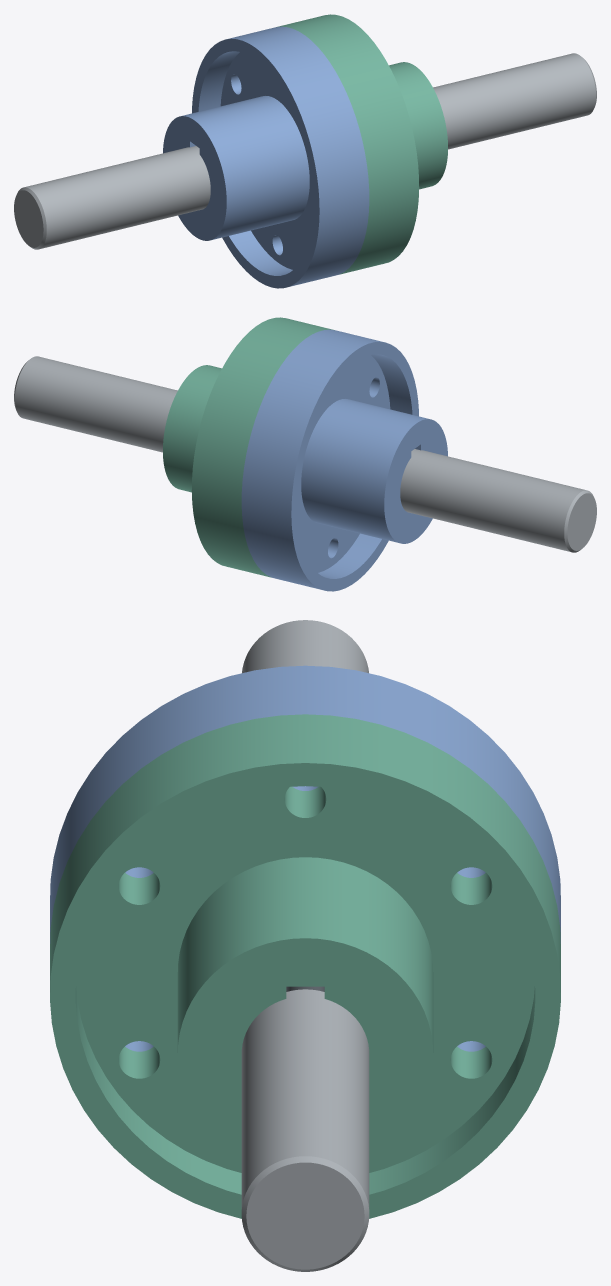
File: step_16.glb
The picture shows the model from 3 angles, top to bottom: view 1: azimuth 30°, elevation 25°; view 2: azimuth 150°, elevation 25°; view 3: azimuth 270°, elevation 25°; orthographic projection. The views are drawn at different scales.
Visible parts, largest first — view 1: part__flange A (spigot), part__flange B (recess), part__shaft A, part__shaft B; view 2: part__flange A (spigot), part__flange B (recess), part__shaft A, part__shaft B; view 3: part__flange B (recess), part__shaft B, part__flange A (spigot), part__shaft A.
Part boxes in pixels (box(x1,y1,x2,y2)): part__flange A (spigot): box(163, 26, 369, 288); part__flange B (recess): box(276, 14, 447, 274); part__shaft A: box(14, 146, 210, 249); part__shaft B: box(433, 53, 596, 149); part__flange A (spigot): box(241, 329, 447, 591); part__flange B (recess): box(163, 317, 334, 577); part__shaft A: box(400, 449, 596, 552); part__shaft B: box(14, 356, 177, 452); part__flange B (recess): box(50, 714, 560, 1218); part__shaft B: box(241, 989, 369, 1271); part__flange A (spigot): box(50, 665, 560, 1051); part__shaft A: box(242, 620, 368, 673).
Size of the model in its own units: 400 by 160 by 160.
